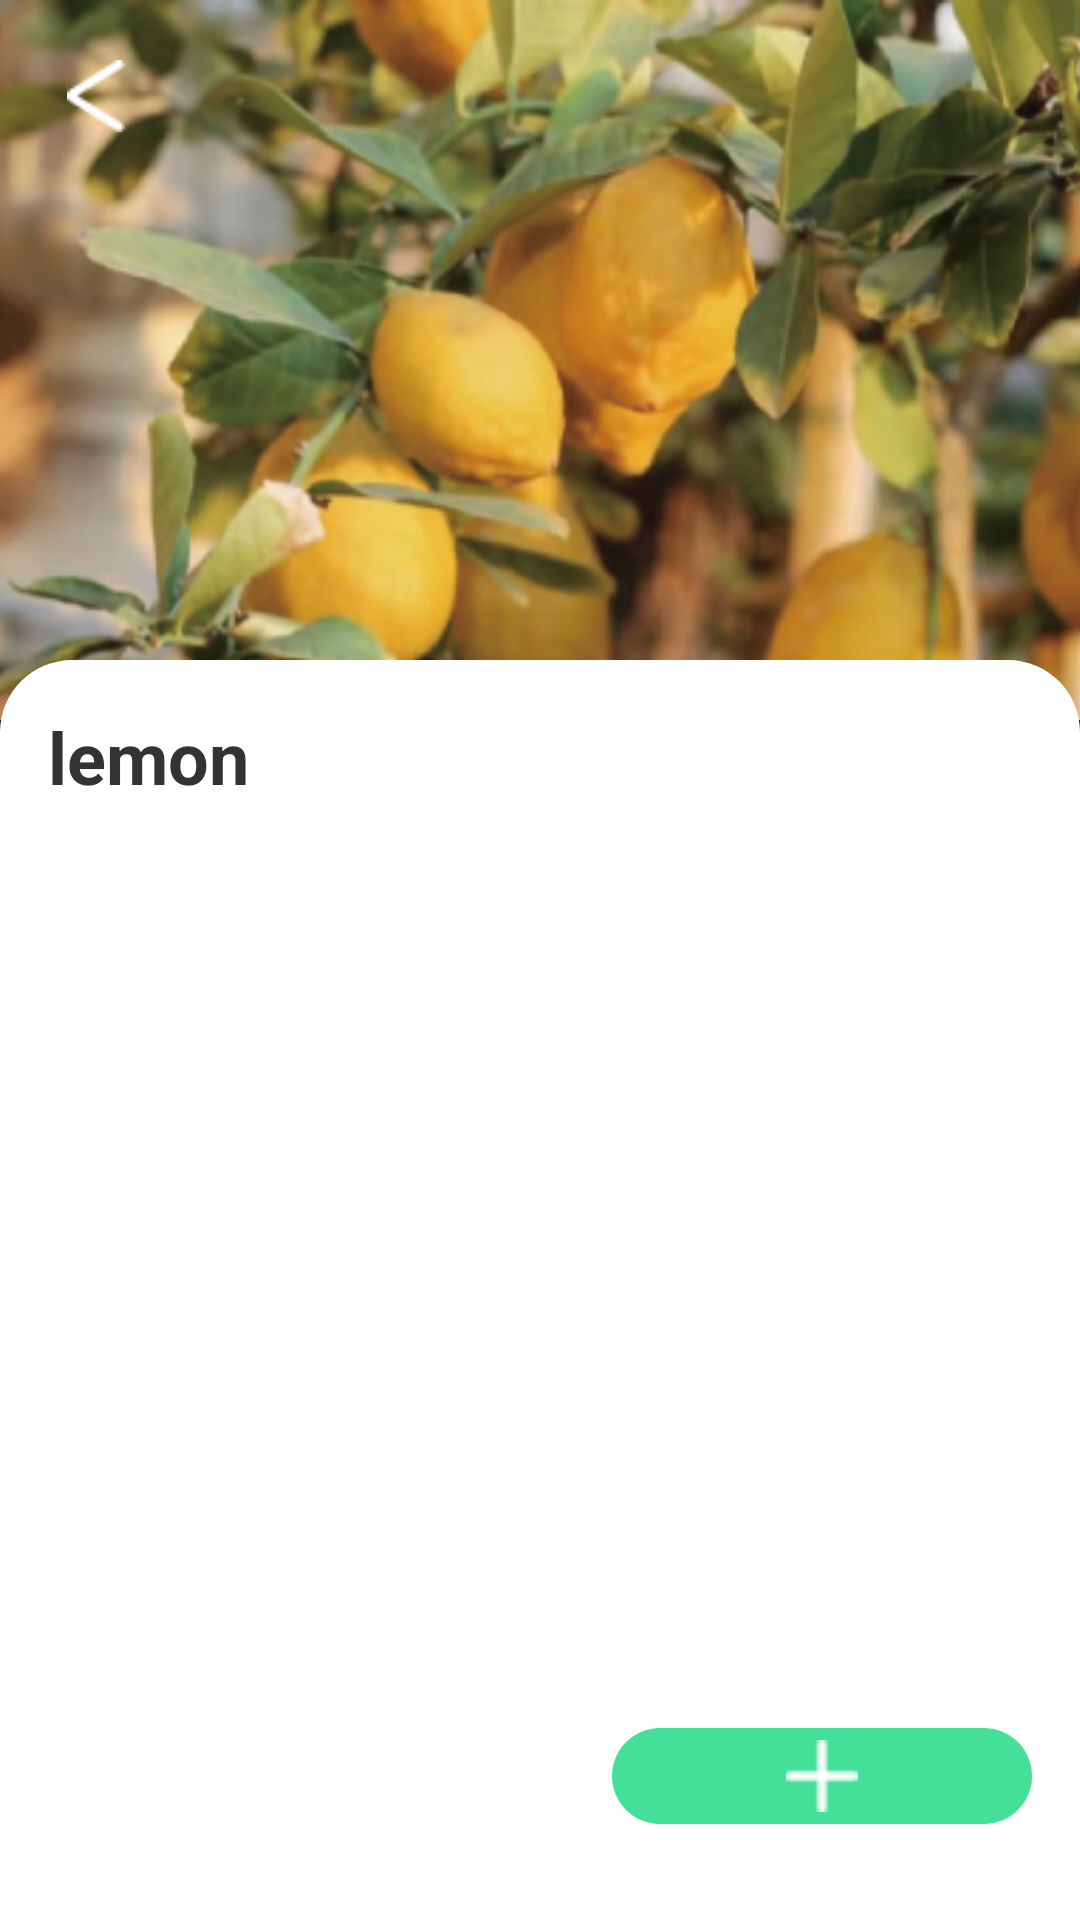

Where to tap for icons on this 1080px x 1920px app screen, as (x,y):
add: (822,1776)
back: (96,96)
